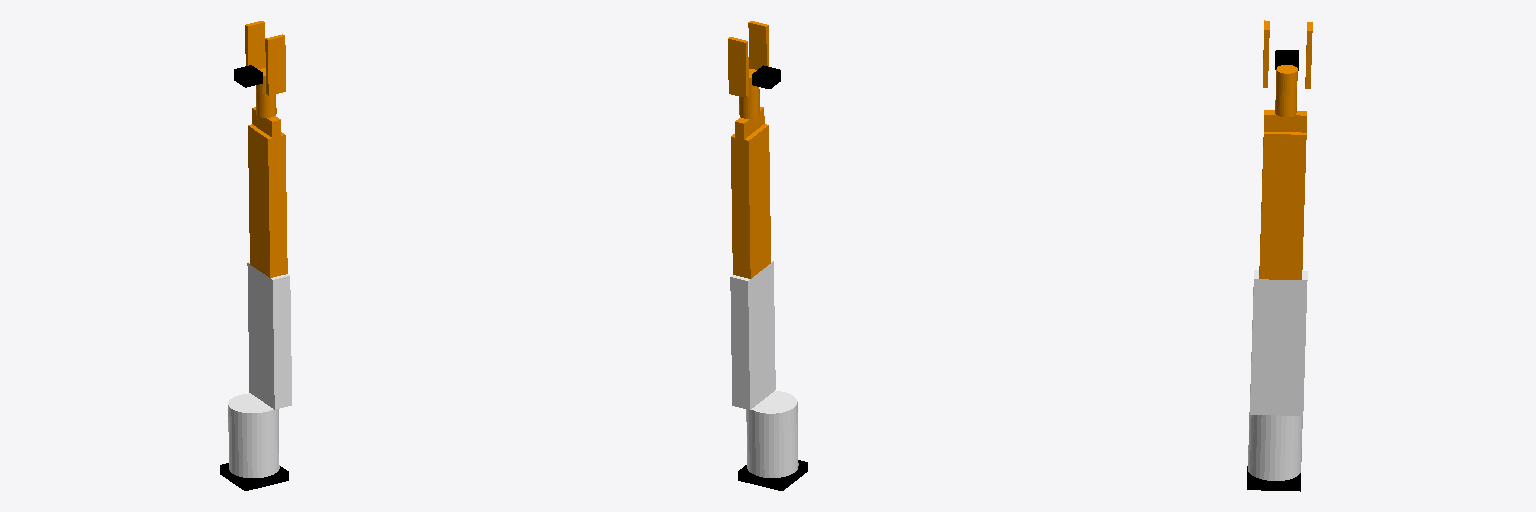
robot.urdf — arips:
<?xml version="1.0" encoding="utf-8"?>
<!-- =================================================================================== -->
<!-- |    This document was autogenerated by xacro from arips.urdf.xacro               | -->
<!-- |    EDITING THIS FILE BY HAND IS NOT RECOMMENDED                                 | -->
<!-- =================================================================================== -->
<robot name="arips">
  <link name="base_link">
    <visual>
      <geometry>
        <mesh filename="package://arips_description/models/robot_body.dae"/>
      </geometry>
      <origin rpy="0 0 -1.57075"/>
    </visual>
  </link>
  <link name="camera_link">
    <visual>
      <geometry>
        <mesh filename="package://arips_description/models/robot_kinect.dae"/>
      </geometry>
    </visual>
  </link>
  <joint name="camera_joint" type="revolute">
    <limit effort="1000.0" lower="-1" upper="1" velocity="0.5"/>
    <parent link="base_link"/>
    <child link="camera_link"/>
    <origin rpy="0 0 0" xyz="-0.14 0 0.74"/>
    <axis xyz="0 1 0"/>
  </joint>
  <joint name="base_to_right_leg" type="fixed">
    <parent link="base_link"/>
    <child link="arm_base_link"/>
    <origin rpy="-0.028 0 0" xyz="0.163 -0.006 0.055"/>
  </joint>
  <material name="white">
    <color rgba="1 1 1 1"/>
  </material>
  <material name="black">
    <color rgba="0 0 0 1"/>
  </material>
  <material name="orange">
    <color rgba="1 0.6 0 1"/>
  </material>
  <link name="arm_base_link">
    <visual>
      <geometry>
        <box size="0.05 0.05 0.01"/>
      </geometry>
      <origin xyz="0 0 0.005"/>
      <material name="black"/>
    </visual>
  </link>
  <link name="link2">
    <visual>
      <geometry>
        <cylinder length="0.07" radius="0.025"/>
      </geometry>
      <origin xyz="0 0 0.035"/>
      <material name="white"/>
    </visual>
  </link>
  <link name="link3">
    <visual>
      <geometry>
        <box size="0.02 0.05 0.14"/>
      </geometry>
      <origin xyz="0 0 0.07"/>
      <material name="white"/>
    </visual>
  </link>
  <link name="link4">
    <visual>
      <geometry>
        <box size="0.02 0.04 0.15"/>
      </geometry>
      <origin xyz="0 0 0.075"/>
      <material name="orange"/>
    </visual>
  </link>
  <link name="link5">
    <visual>
      <geometry>
        <box size="0.01 0.04 0.035"/>
      </geometry>
      <origin xyz="0 0 0"/>
      <material name="orange"/>
    </visual>
  </link>
  <link name="link6">
    <visual>
      <geometry>
        <cylinder length="0.045" radius="0.01"/>
      </geometry>
      <origin xyz="0 0 0.0225"/>
      <material name="orange"/>
    </visual>
  </link>
  <link name="tool0">
    <visual>
      <geometry>
        <box size="0.012 0.022 0.02"/>
      </geometry>
      <origin xyz="-0.04 0 0.02"/>
      <material name="black"/>
    </visual>
  </link>
  <joint name="joint1" type="revolute">
    <parent link="arm_base_link"/>
    <child link="link2"/>
    <axis xyz="0 0 1"/>
    <origin xyz="0 0 0.01"/>
    <limit effort="1000.0" lower="-1.41371669412" upper="1.41371669412" velocity="1.0"/>
  </joint>
  <joint name="joint2" type="revolute">
    <parent link="link2"/>
    <child link="link3"/>
    <axis xyz="0 1 0"/>
    <origin xyz="0.02 0 0.07"/>
    <limit effort="1000.0" lower="-0.95" upper="2.1" velocity="1.0"/>
  </joint>
  <joint name="joint3" type="revolute">
    <parent link="link3"/>
    <child link="link4"/>
    <axis xyz="0 1 0"/>
    <origin xyz="0 0 0.14"/>
    <limit effort="1000.0" lower="-1.50796447372" upper="3.0" velocity="1.0"/>
  </joint>
  <joint name="joint4" type="revolute">
    <parent link="link4"/>
    <child link="link5"/>
    <axis xyz="0 1 0"/>
    <origin xyz="0 0 0.15"/>
    <limit effort="1000.0" lower="-1.57079632679" upper="1.57079632679" velocity="1.0"/>
  </joint>
  <joint name="joint5" type="revolute">
    <parent link="link5"/>
    <child link="link6"/>
    <axis xyz="0 0 1"/>
    <origin xyz="0 0 0.0175"/>
    <limit effort="1000.0" lower="-1.57079632679" upper="1.57079632679" velocity="1.0"/>
  </joint>
  <joint name="link6-tool0" type="fixed">
    <parent link="link6"/>
    <child link="tool0"/>
    <origin rpy="0 -1.57075 0" xyz="0 0 0.085"/>
  </joint>
  <joint name="tool0_gripper" type="fixed">
    <parent link="tool0"/>
    <child link="gripper_base"/>
    <origin rpy="0 0 0" xyz="0.0 0 0"/>
  </joint>
  <joint name="gripper_joint" type="revolute">
    <parent link="gripper_base"/>
    <child link="gripper_link_left"/>
    <axis xyz="0 0 1"/>
    <origin xyz="-0.055 0.02 0"/>
    <limit effort="1000.0" lower="0" upper="0.3" velocity="1.0"/>
  </joint>
  <joint name="gripper_joint_right" type="revolute">
    <mimic joint="gripper_joint" multiplier="-1"/>
    <parent link="gripper_base"/>
    <child link="gripper_link_right"/>
    <axis xyz="0 0 1"/>
    <origin xyz="-0.055 -0.02 0"/>
    <limit effort="1000.0" lower="0.3" upper="0" velocity="1.0"/>
  </joint>
  <link name="gripper_base">
   </link>
  <link name="gripper_link_left">
    <visual>
      <geometry>
        <box size="0.06 0.005 0.02"/>
      </geometry>
      <origin xyz="0.03 0 0"/>
      <material name="orange"/>
    </visual>
  </link>
  <link name="gripper_link_right">
    <visual>
      <geometry>
        <box size="0.06 0.005 0.02"/>
      </geometry>
      <origin xyz="0.03 0 0"/>
      <material name="orange"/>
    </visual>
  </link>
</robot>

--- What the picture shows (computed from the rendered views, not written in the file) ---
3 views of the same robot in one strip: view 1: azimuth 30°, elevation 25°; view 2: azimuth 150°, elevation 25°; view 3: azimuth 270°, elevation 25° (orthographic).
Robot: arips — 12 links, 11 joints (8 revolute, 3 fixed); root link base_link; default pose: every joint at zero.
Links seen in each view (by area): view 1: link3, link4, link2, gripper_link_right, gripper_link_left, arm_base_link, link6; view 2: link3, link4, link2, gripper_link_left, gripper_link_right, arm_base_link, link6, link5, tool0; view 3: link3, link4, link2, link6, link5, arm_base_link.
Boxes of the visible links, x1,y1,x2,y2 form: link3: (247, 262, 291, 409); link4: (248, 124, 287, 277); link2: (228, 393, 279, 477); gripper_link_right: (265, 34, 285, 95); gripper_link_left: (245, 21, 265, 68); arm_base_link: (220, 463, 288, 490); link6: (256, 68, 276, 117); link3: (730, 261, 775, 409); link4: (731, 124, 770, 278); link2: (746, 391, 798, 477); gripper_link_left: (728, 37, 748, 97); gripper_link_right: (748, 21, 768, 69); arm_base_link: (738, 460, 807, 490); link6: (739, 69, 759, 118); link5: (735, 107, 764, 155); tool0: (752, 65, 780, 88); link3: (1250, 270, 1307, 415); link4: (1259, 132, 1306, 279); link2: (1248, 412, 1302, 480); link6: (1275, 65, 1297, 116); link5: (1263, 110, 1306, 143); arm_base_link: (1247, 466, 1300, 491).
Bounding box of the posed robot: 0.055 × 0.0608 × 0.4786 m (x, y, z).
0 mesh visuals loaded from 2 distinct referenced files (none loaded); not drawn: 2 (file found but could not be loaded).